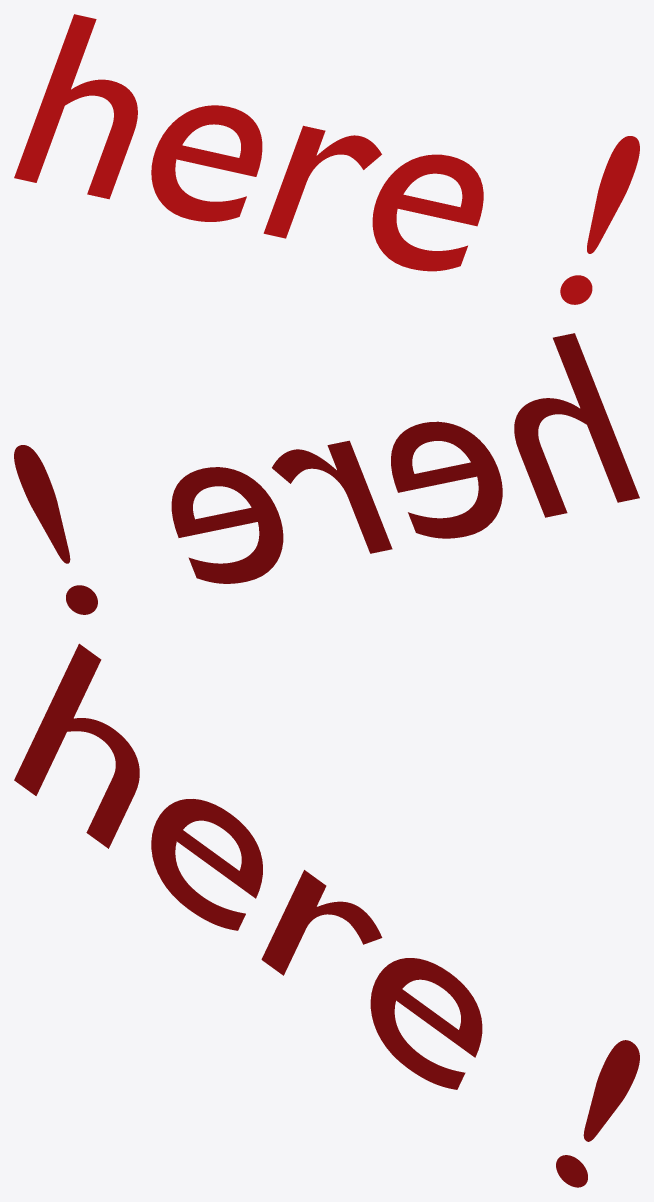
File: pointer.glb
3 views of the same model, one above another, from view 1: azimuth 30°, elevation 25°; view 2: azimuth 150°, elevation 25°; view 3: azimuth 330°, elevation 25° (orthographic). The views are drawn at different scales.
Visible parts, largest first — view 1: 텍스트; view 2: 텍스트; view 3: 텍스트.
Part boxes in pixels (bbox=[...]): 텍스트: bbox=[14, 14, 639, 304]; 텍스트: bbox=[14, 333, 639, 614]; 텍스트: bbox=[14, 643, 639, 1187].
Bounding box in the file's own units: 0.2144 × 0.1335 × 0.00627.
